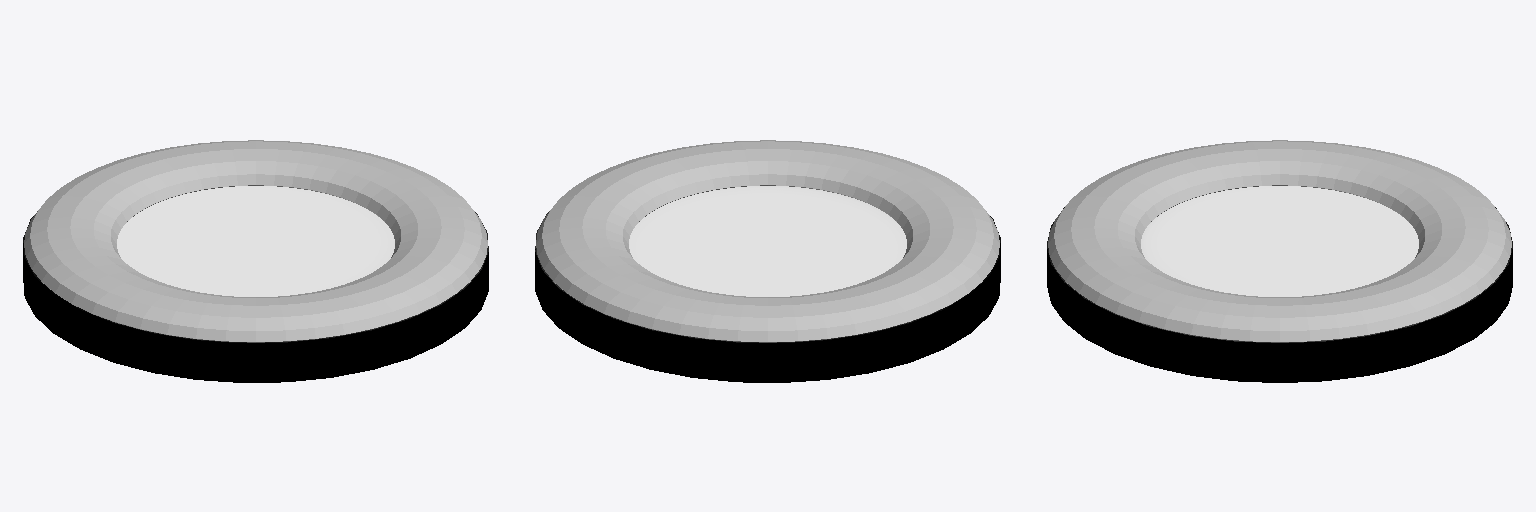
The picture shows the model from 3 angles: view 1: azimuth 30°, elevation 25°; view 2: azimuth 150°, elevation 25°; view 3: azimuth 270°, elevation 25°; orthographic projection.
Parts seen in each view (by area): view 1: 円柱; view 2: 円柱; view 3: 円柱.
Boxes of the visible parts, box(x1,y1,x2,y2) form: 円柱: box(23, 140, 488, 382); 円柱: box(535, 140, 1000, 382); 円柱: box(1047, 140, 1512, 382).
Bounding box in the file's own units: 5.5 × 0.7449 × 5.5.
2 materials, 1 textured.